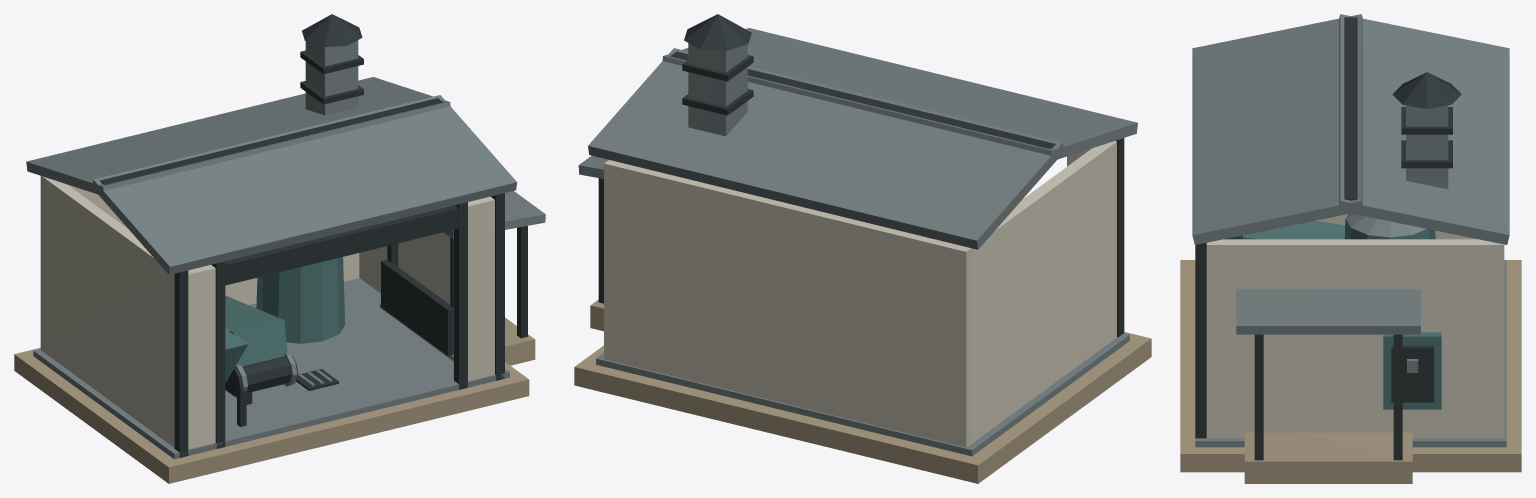
The model's file is Food-Factory.glb.
The picture shows the model from 3 angles, left to right: view 1: azimuth 30°, elevation 25°; view 2: azimuth 150°, elevation 25°; view 3: azimuth 270°, elevation 25°; orthographic projection. The views are drawn at different scales.
Parts seen in each view (by area): view 1: food-factory-static-food-factory-galvanized-roof-ventilation, food-factory-static-food-factory-pale-insulated-panels, food-factory-static-food-factory-dark-iron-frame-conveyor, food-factory-static-food-factory-warm-stone-curb, food-factory-static-food-factory-muted-teal-processing-equip; view 2: food-factory-static-food-factory-pale-insulated-panels, food-factory-static-food-factory-galvanized-roof-ventilation, food-factory-static-food-factory-warm-stone-curb, food-factory-static-food-factory-dark-iron-frame-conveyor; view 3: food-factory-static-food-factory-galvanized-roof-ventilation, food-factory-static-food-factory-pale-insulated-panels, food-factory-static-food-factory-warm-stone-curb, food-factory-static-food-factory-dark-iron-frame-conveyor, food-factory-static-food-factory-muted-teal-processing-equip.
Boxes of the visible parts, <box> form: food-factory-static-food-factory-galvanized-roof-ventilation: <box>26,40,545,459</box>; food-factory-static-food-factory-pale-insulated-panels: <box>40,176,494,449</box>; food-factory-static-food-factory-dark-iron-frame-conveyor: <box>99,14,527,457</box>; food-factory-static-food-factory-warm-stone-curb: <box>14,303,535,483</box>; food-factory-static-food-factory-muted-teal-processing-equip: <box>225,257,345,382</box>; food-factory-static-food-factory-pale-insulated-panels: <box>604,140,1116,447</box>; food-factory-static-food-factory-galvanized-roof-ventilation: <box>578,28,1137,456</box>; food-factory-static-food-factory-warm-stone-curb: <box>574,299,1151,483</box>; food-factory-static-food-factory-dark-iron-frame-conveyor: <box>598,14,1124,337</box>; food-factory-static-food-factory-galvanized-roof-ventilation: <box>1192,14,1509,447</box>; food-factory-static-food-factory-pale-insulated-panels: <box>1206,214,1504,437</box>; food-factory-static-food-factory-warm-stone-curb: <box>1180,260,1521,483</box>; food-factory-static-food-factory-dark-iron-frame-conveyor: <box>1195,17,1461,460</box>; food-factory-static-food-factory-muted-teal-processing-equip: <box>1226,219,1441,409</box>.
Bounding box in the file's own units: 4.58 × 3.49 × 3.05.
